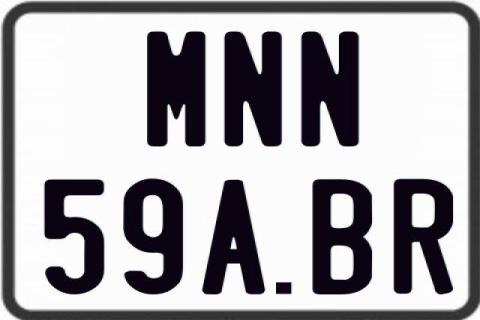0: (42, 178, 105, 298), (123, 177, 187, 295)
A: (202, 178, 270, 294)
B: (311, 178, 371, 294)
M: (144, 29, 208, 150)
N: (222, 30, 282, 146), (302, 30, 362, 146)
R: (392, 178, 456, 294)
